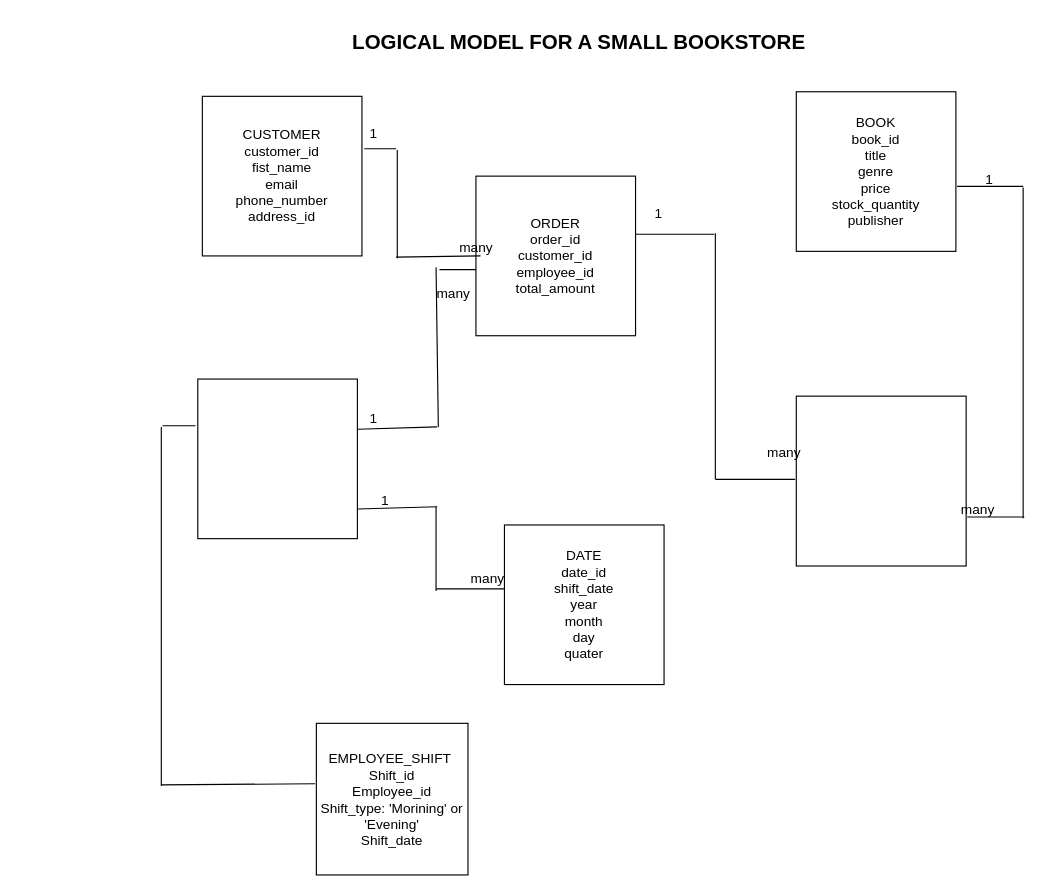
Image size: 1045x895. Some labels were removed from this diagram. Here are the shapes that lost their labels. From the top down, the centre of each, then its label:
point 277,458: EMPLOYEE employee_id first_name last_name position salary hire_date
point 880,480: SALES sales_id order_id quantity total_price
